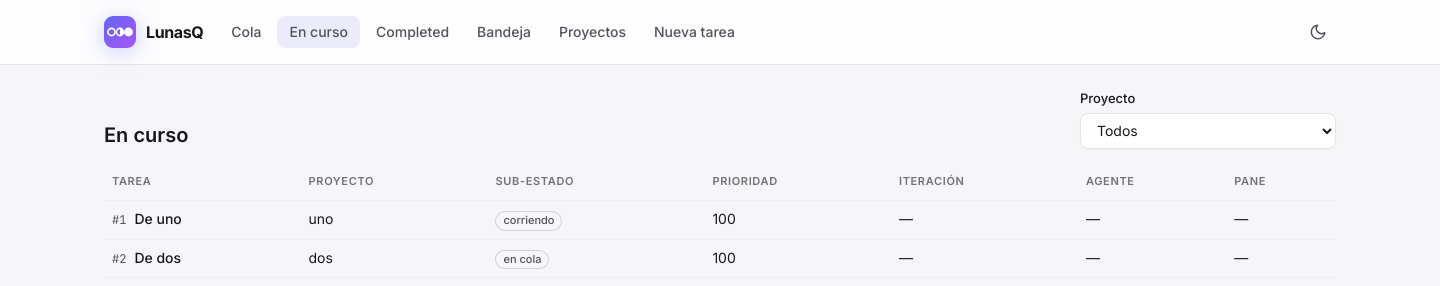
Test: pestaña En curso › filtra por proyecto y Todos vuelve a mostrar ambos
The width and height of the screenshot is (1440, 286).
Expected: the link "De dos" is shown, [134,248,181,268]
Select "uno" in the dropdown labelled "Proyecto" at [1208, 130], box [1080,112,1336,148]
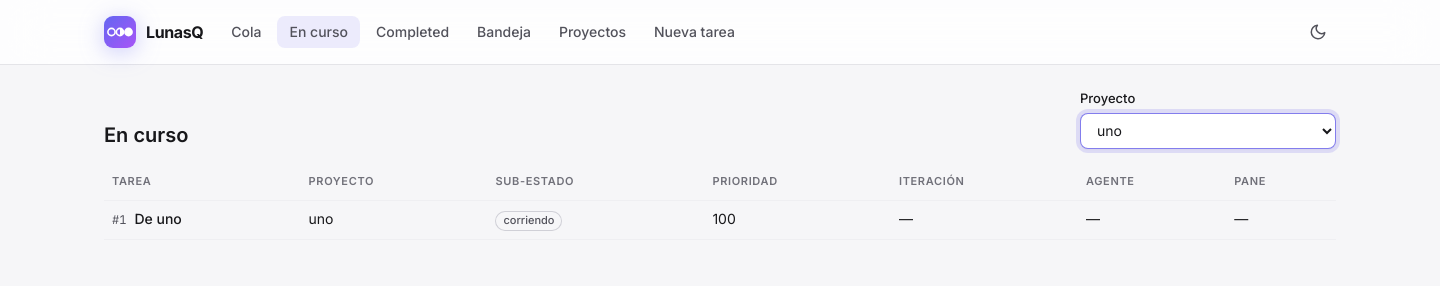
Expected: the link "De uno" is shown, [134,209,182,229]
Now the link "De dos" is gone
Select "Todos" in the dropdown labelled "Proyecto" at [1208, 130], box [1080,112,1336,148]
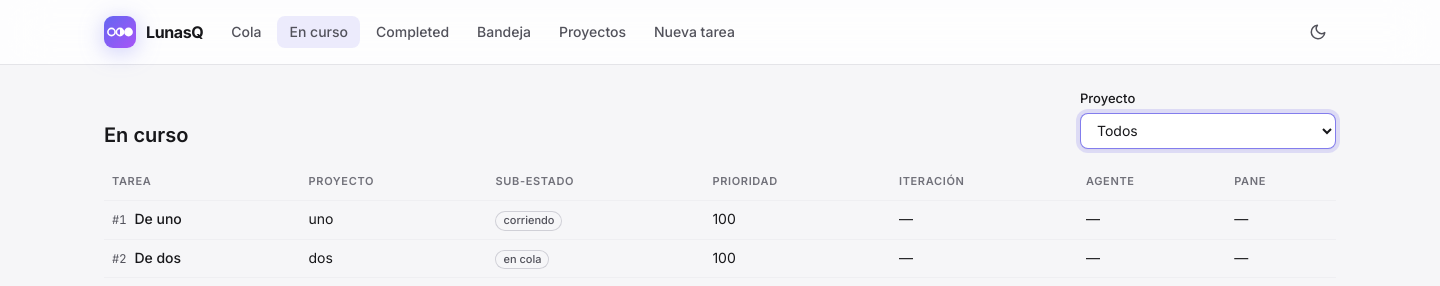
Expected: the link "De uno" is shown, [134,209,182,229]
Now the link "De dos" is shown, box [134,248,181,268]
